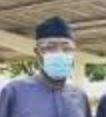with_facemask: (42, 52, 80, 82)
